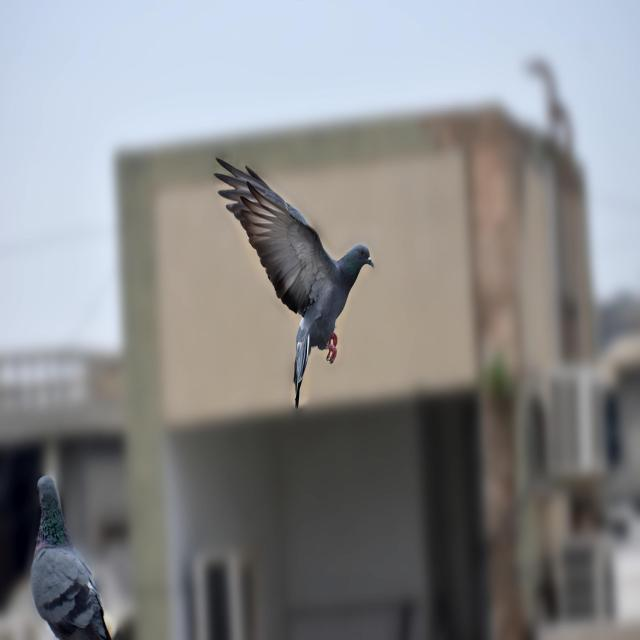pegion: (188, 93, 405, 400), (28, 448, 127, 621)
